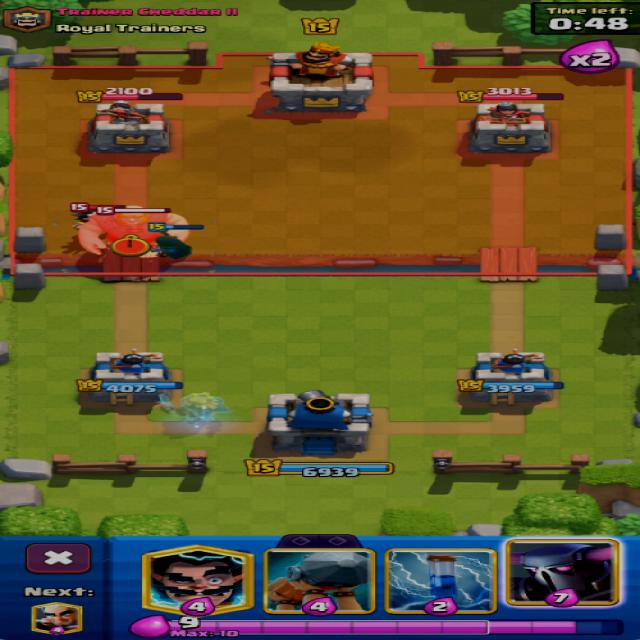Enemy-ElectroWizard: (72, 212, 93, 228)
Enemy-Giant: (79, 216, 157, 254), (161, 214, 184, 224), (170, 230, 186, 240)
Enemy-KingTower: (270, 43, 372, 113)
Enemy-PrincessTower: (88, 102, 170, 154), (470, 103, 550, 154)
